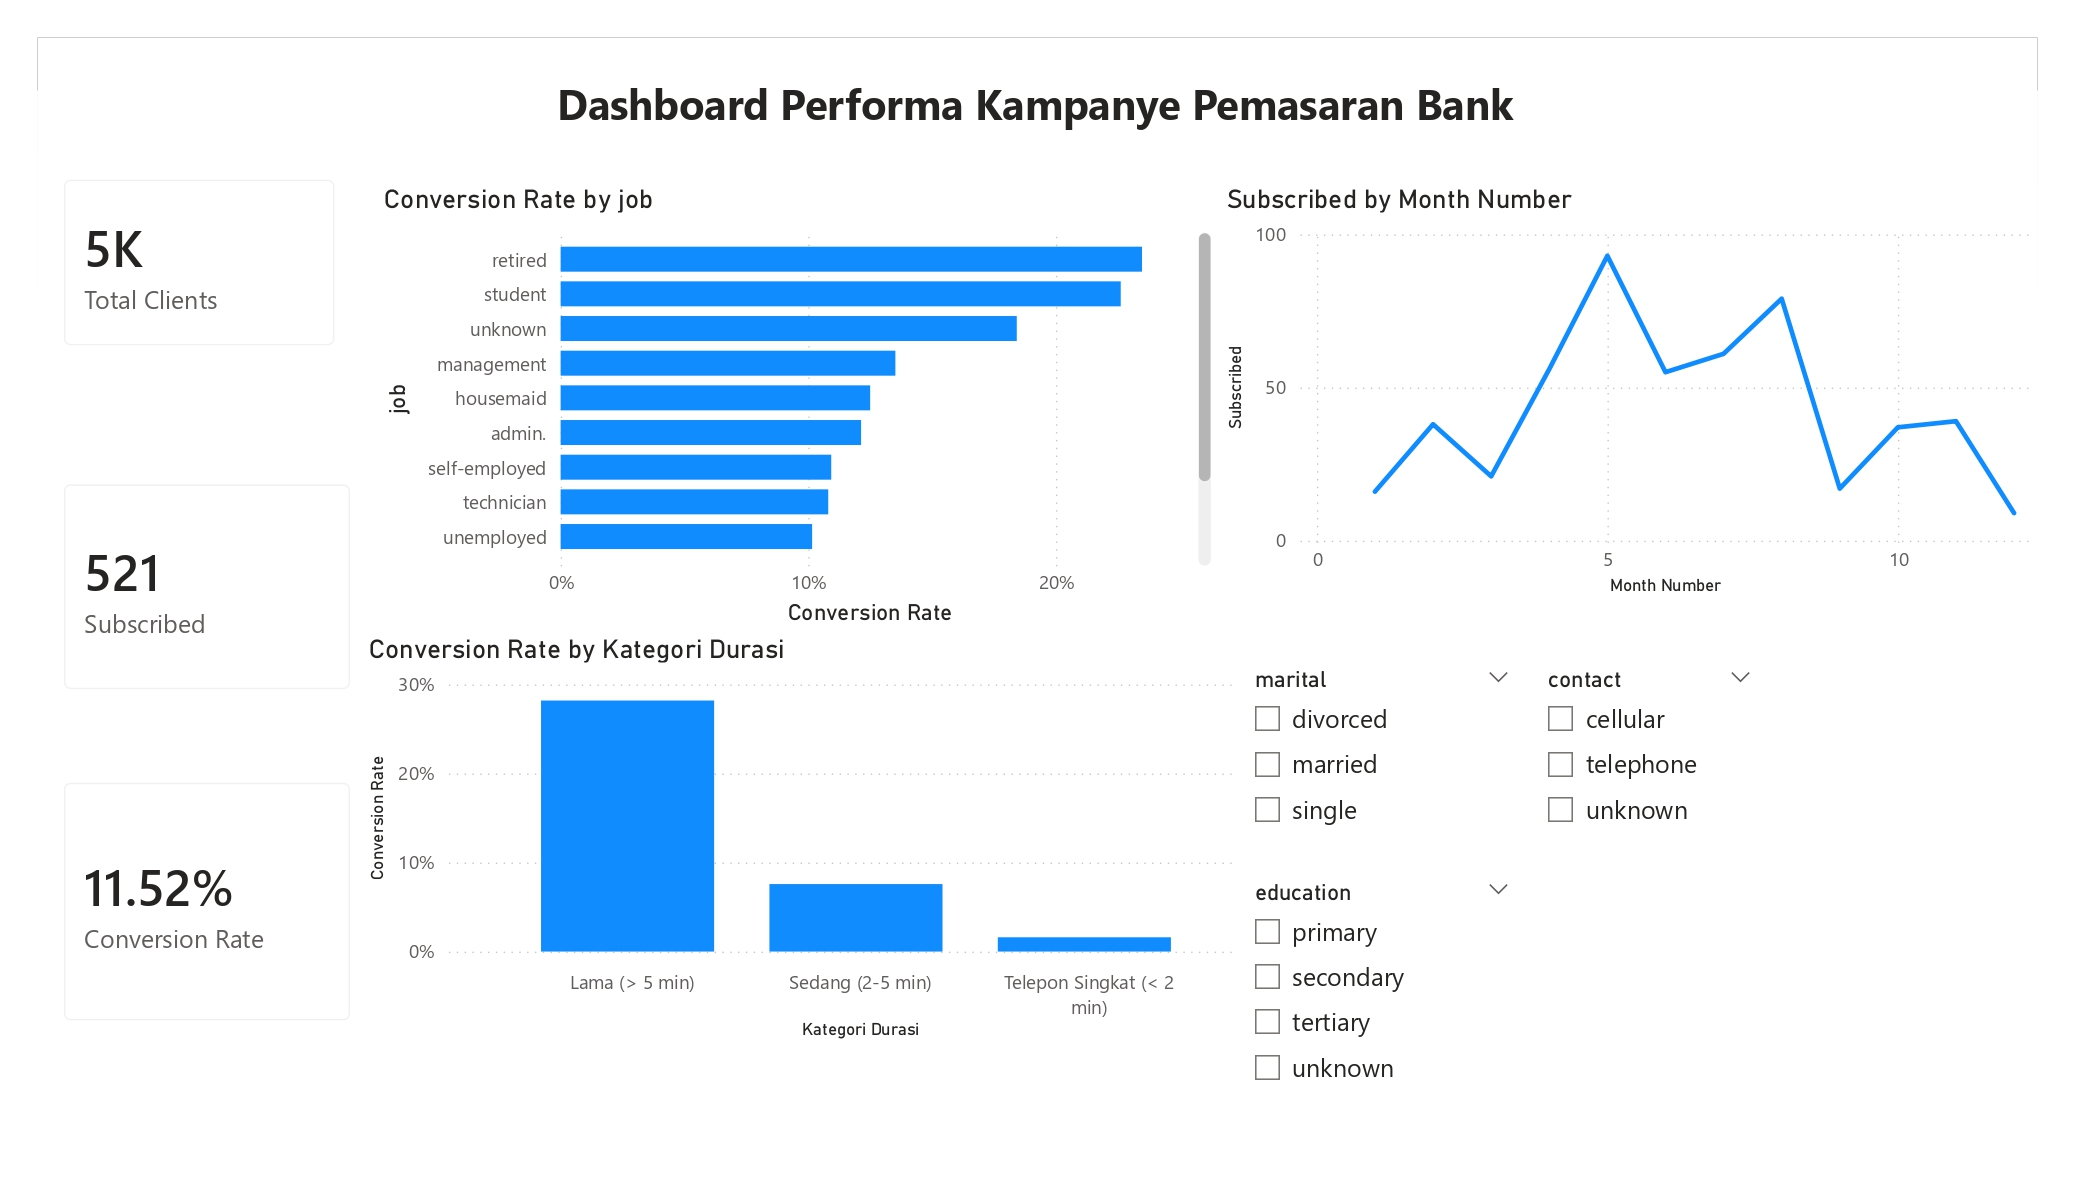

The dashboard page shown, as its layout file describes it:
{"tool":"powerbi","page":{"name":"Page 1","canvas":[1280,720],"ordinal":0},"visuals":[{"type":"cardVisual","fields":{"Data":["bank.Total Clients"]},"box":[0,74.1,207.2,140],"z":0},{"type":"cardVisual","fields":{"Data":["bank.Subscribed"]},"box":[0,269,216.8,164.7],"z":1000},{"type":"cardVisual","fields":{"Data":["bank.Conversion Rate"]},"box":[0,459.7,216.8,186.6],"z":2000},{"type":"clusteredBarChart","fields":{"Category":["bank.job"],"Y":["bank.Conversion Rate"]},"box":[216.8,93.3,539.3,288.2],"z":3000},{"type":"clusteredColumnChart","fields":{"Category":["bank.Kategori Durasi"],"Y":["bank.Conversion Rate"]},"box":[207.2,381.5,587.3,264.8],"z":4000},{"type":"lineChart","fields":{"Y":["bank.Subscribed"],"Category":["bank.Month Number"]},"box":[756.1,93.3,524.2,269],"z":5000},{"type":"slicer","fields":{"Values":["bank.education"]},"box":[765.7,533.8,188,152.3],"z":6000},{"type":"slicer","fields":{"Values":["bank.marital"]},"box":[765.7,397.9,188,135.8],"z":7000},{"type":"slicer","fields":{"Values":["bank.contact"]},"box":[953.7,397.9,155.1,135.8],"z":8000},{"type":"textbox","box":[311.5,19.2,654.5,54.9],"z":9000}]}

Visuals, with their boxes on the page's 1280x720 design canvas (x1, y1, x2, y2). These are canvas units, not pixel positions in the 2075x1200 screenshot, which may show the page scaled, cropped or inside an application window:
cardVisual - bank.Total Clients: <bbox>0, 74, 207, 214</bbox>
cardVisual - bank.Subscribed: <bbox>0, 269, 217, 434</bbox>
cardVisual - bank.Conversion Rate: <bbox>0, 460, 217, 646</bbox>
clusteredBarChart - bank.job x bank.Conversion Rate: <bbox>217, 93, 756, 382</bbox>
clusteredColumnChart - bank.Kategori Durasi x bank.Conversion Rate: <bbox>207, 382, 794, 646</bbox>
lineChart - bank.Subscribed x bank.Month Number: <bbox>756, 93, 1280, 362</bbox>
slicer - bank.education: <bbox>766, 534, 954, 686</bbox>
slicer - bank.marital: <bbox>766, 398, 954, 534</bbox>
slicer - bank.contact: <bbox>954, 398, 1109, 534</bbox>
textbox: <bbox>312, 19, 966, 74</bbox>
